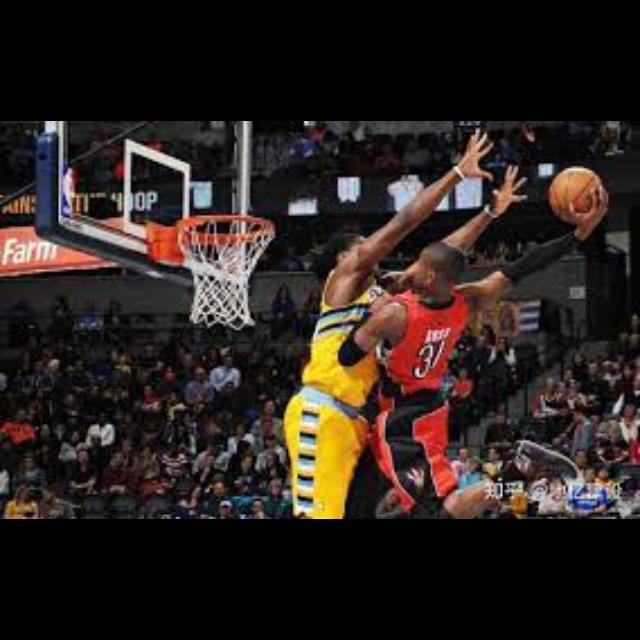basketball: (548, 167, 604, 226)
rim: (178, 216, 276, 332)
